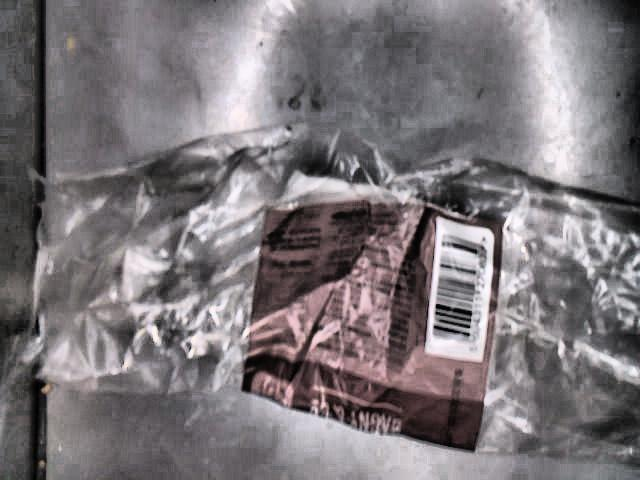Plastic: (8, 119, 640, 479)
